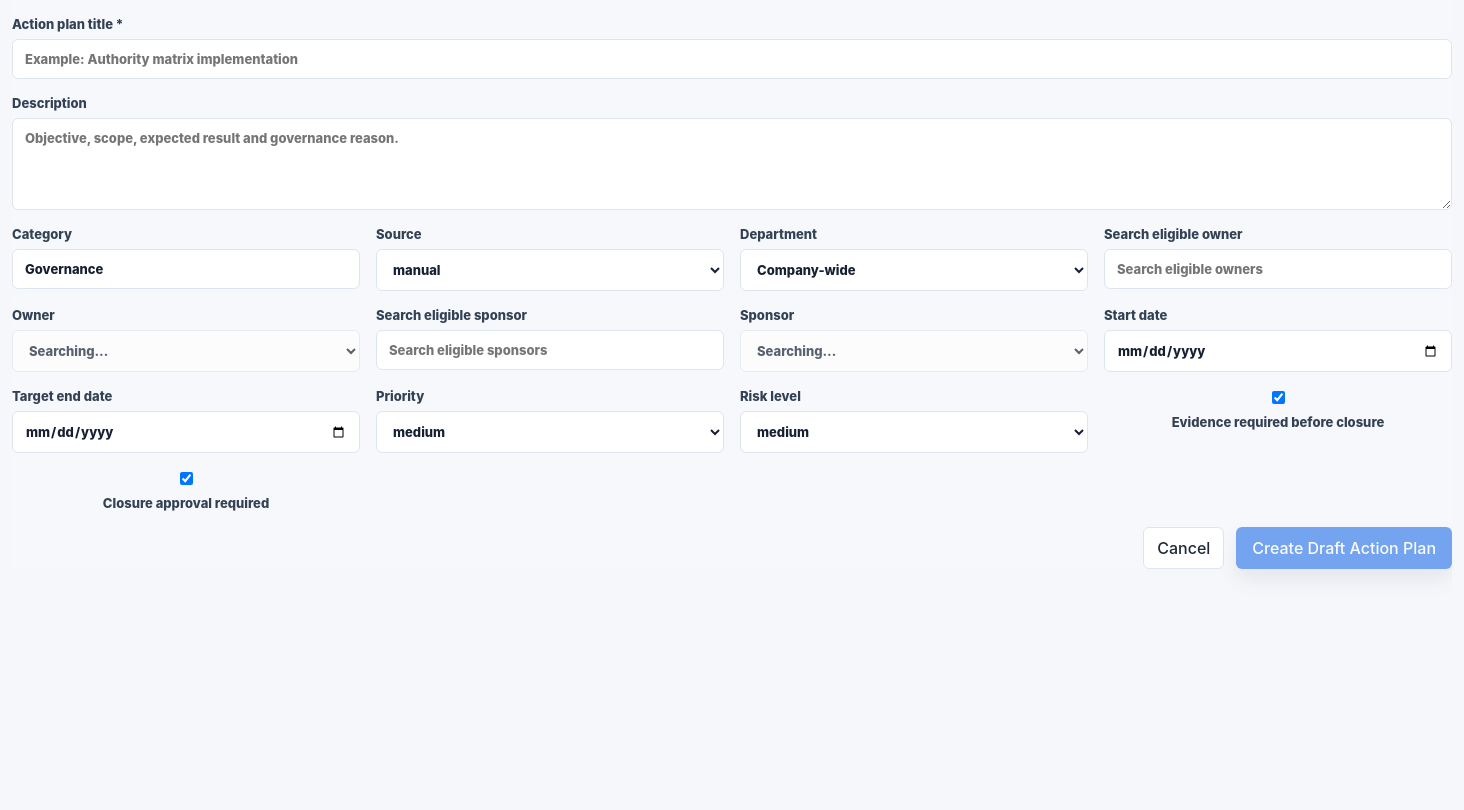
Test: GRC v1.4-A Foundation & Form Safety › Reactive Date-Range Constraints › rejects target end date before start date in ActionPlanForm
Type "Date test project" into the field labelled "Action plan title *" at (732, 59), box [12,39,1452,79]
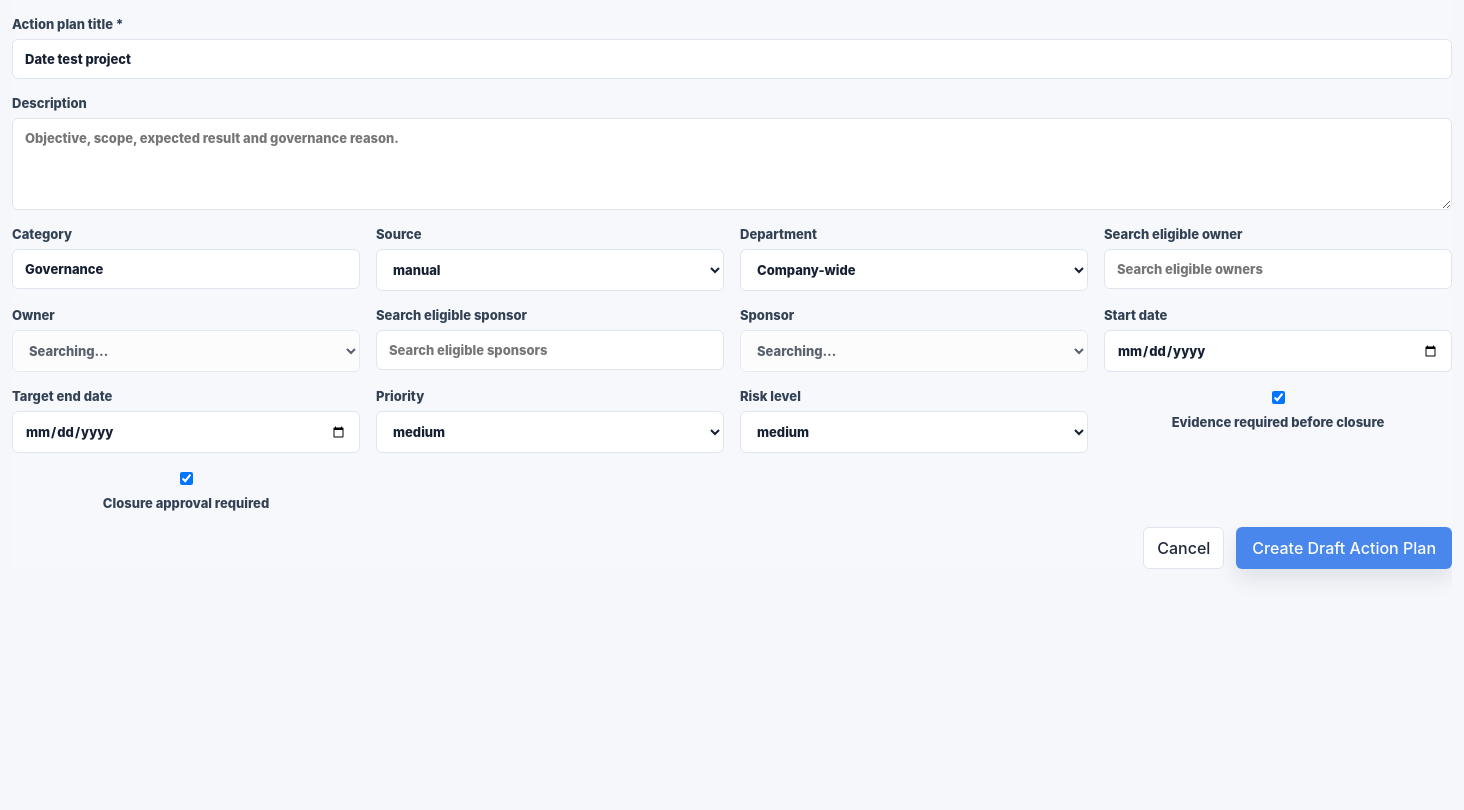
Type "2026-09-15" into the date field labelled "Start date" at (1278, 351), box [1104,330,1452,372]
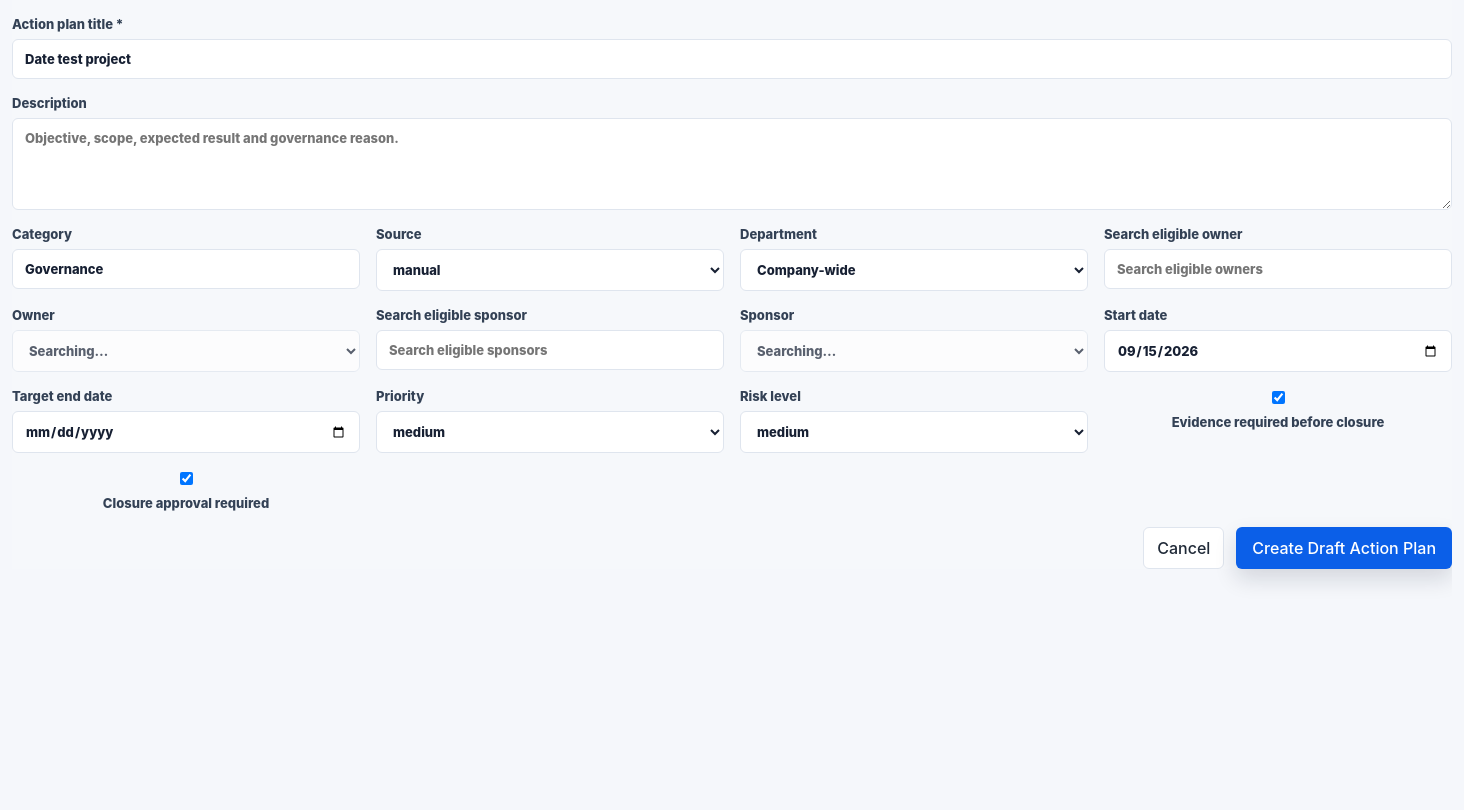
Type "2026-09-01" into the date field labelled "Target end date" at (186, 432), box [12,411,360,453]
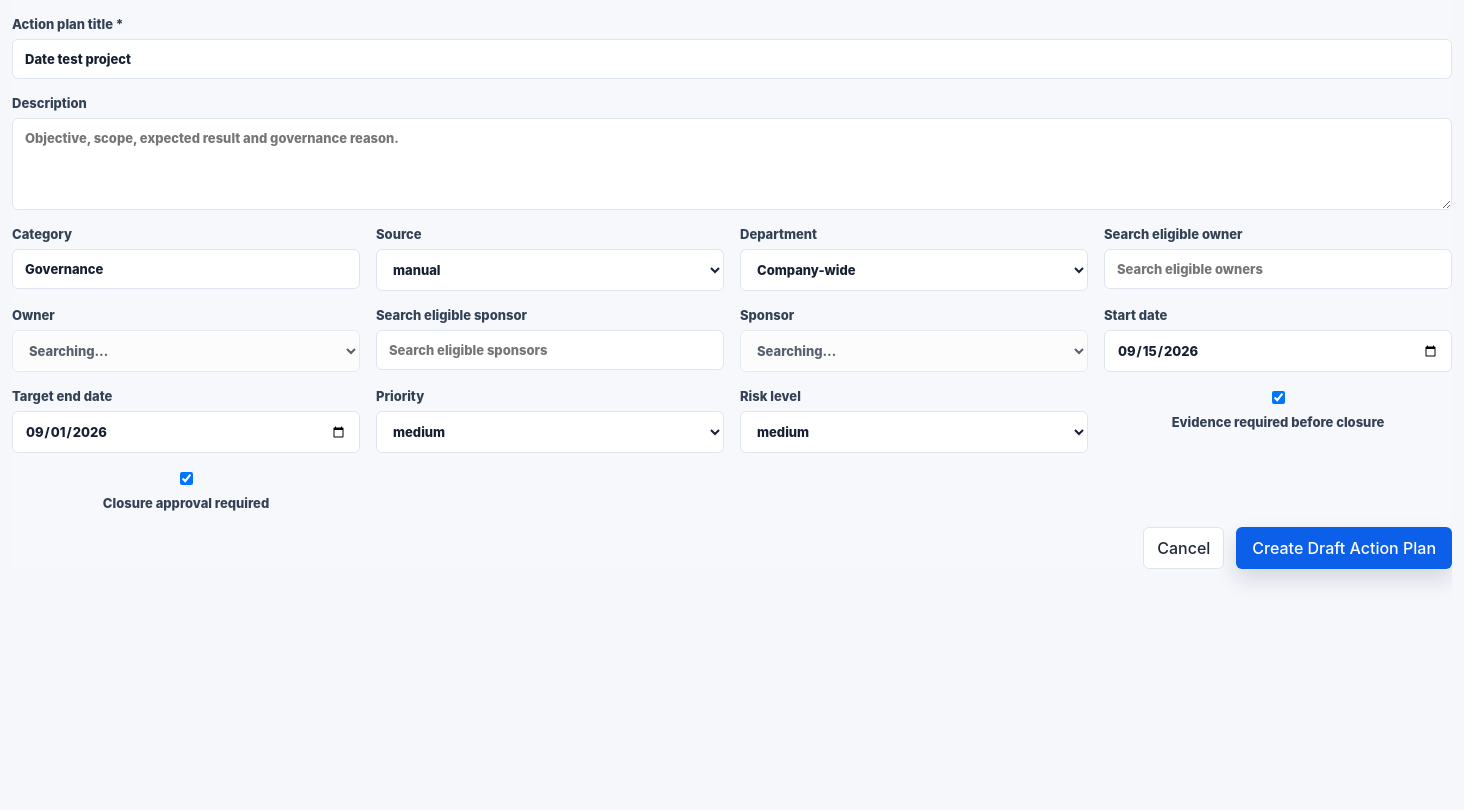
Submit the form named "Create Draft Action Plan"
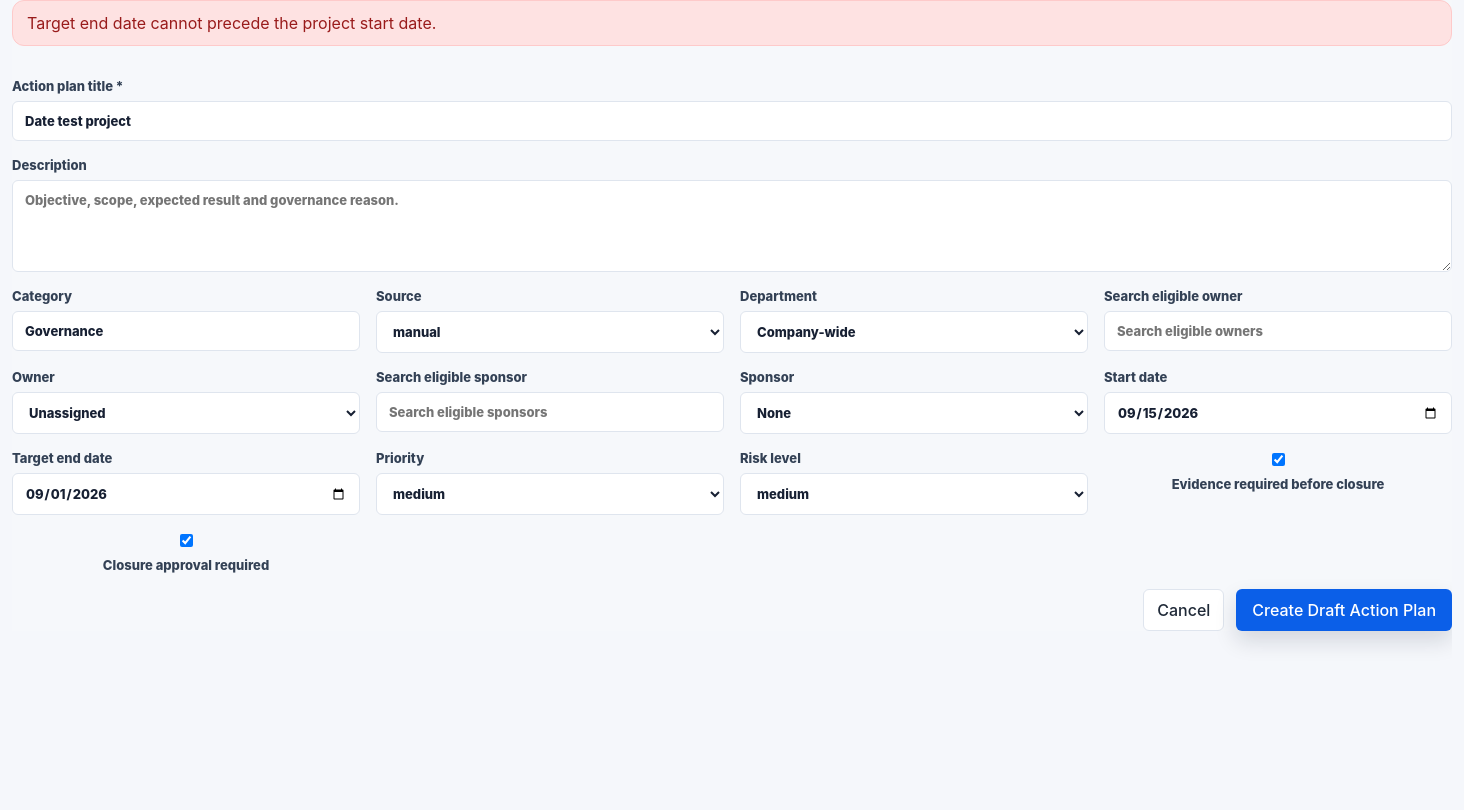
Expected: the text "Target end date cannot precede the project start date." is shown, [12,0,1452,46]
